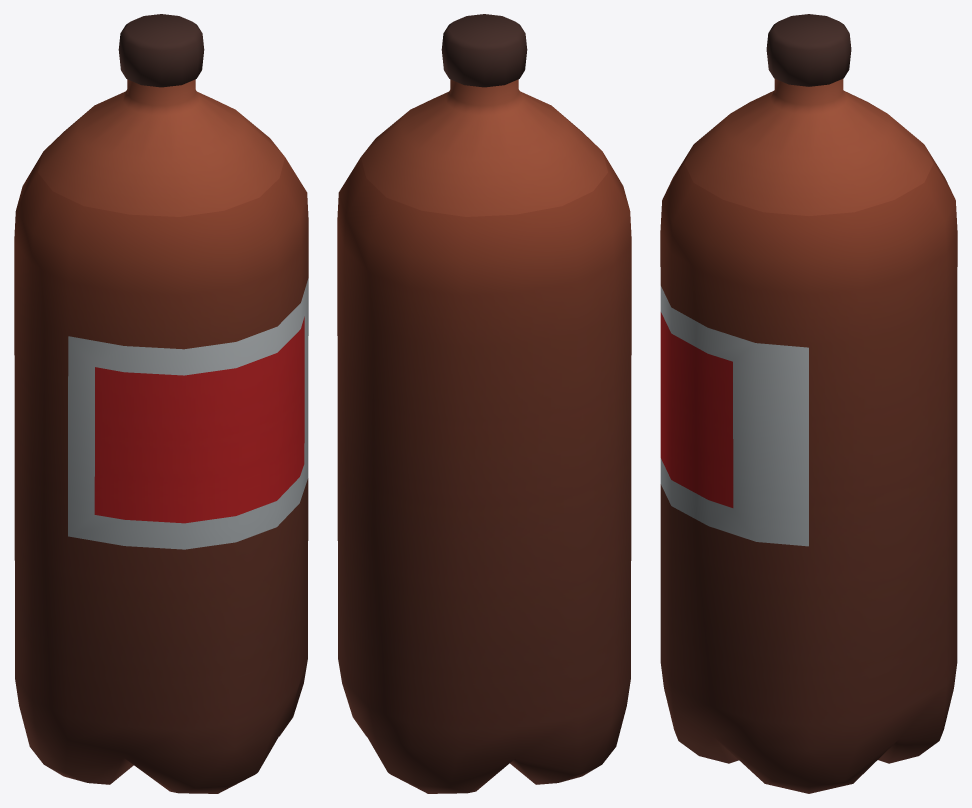
Rendered from bottle_009.fbx.
The picture shows the model from 3 angles, left to right: view 1: azimuth 30°, elevation 25°; view 2: azimuth 150°, elevation 25°; view 3: azimuth 270°, elevation 25°; orthographic projection.
Parts seen in each view (by area): view 1: bottle_009; view 2: bottle_009; view 3: bottle_009.
Part boxes in pixels (x1,y1,x2,y2): bottle_009: (14, 14, 308, 793); bottle_009: (337, 14, 631, 793); bottle_009: (660, 14, 957, 793).
Size of the model in its own units: 11.06 by 11.06 by 29.86.
